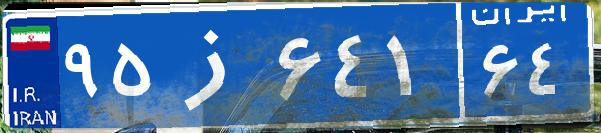1: (385, 28, 445, 110)
4: (330, 28, 385, 110), (525, 38, 570, 115)
5: (110, 28, 158, 105)
6: (273, 28, 330, 110), (475, 38, 525, 113)
9: (57, 26, 110, 107)
ز: (158, 15, 273, 115)
